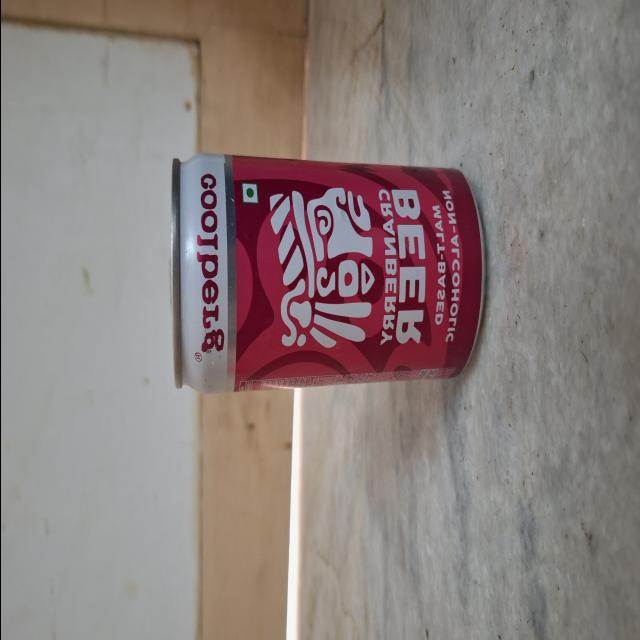Coolberg: (173, 150, 480, 384)
